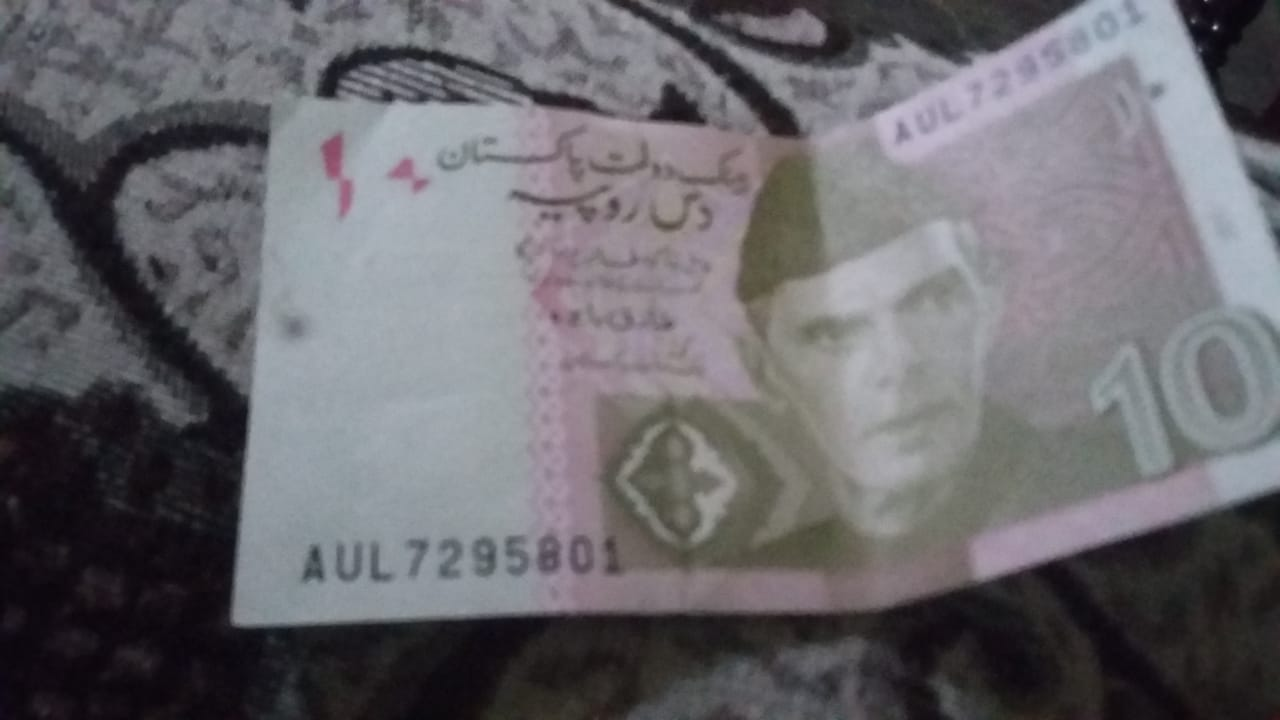10 rupee: (238, 7, 1280, 624)
